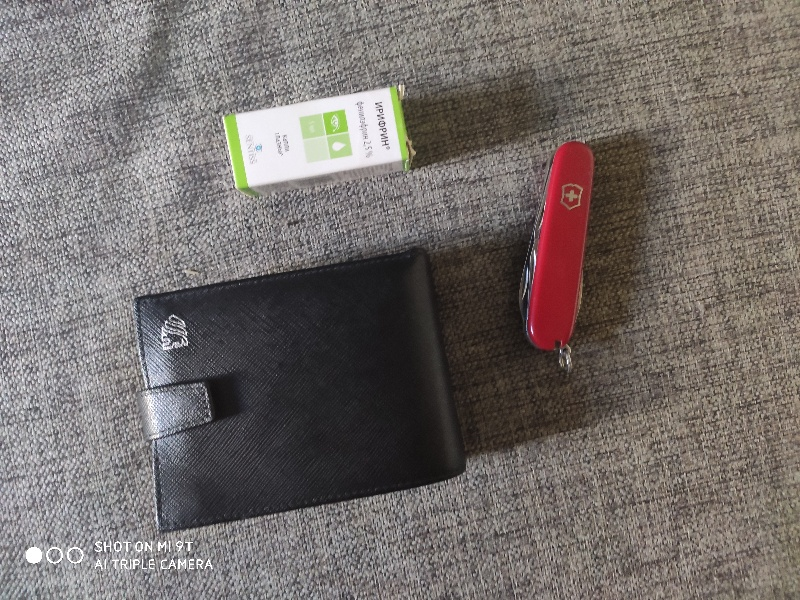ifrin: (215, 81, 415, 195)
knife: (525, 135, 595, 381)
wallet: (131, 248, 468, 535)
